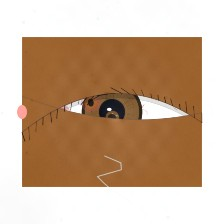foreign_body_visible: (44, 100, 79, 128)
